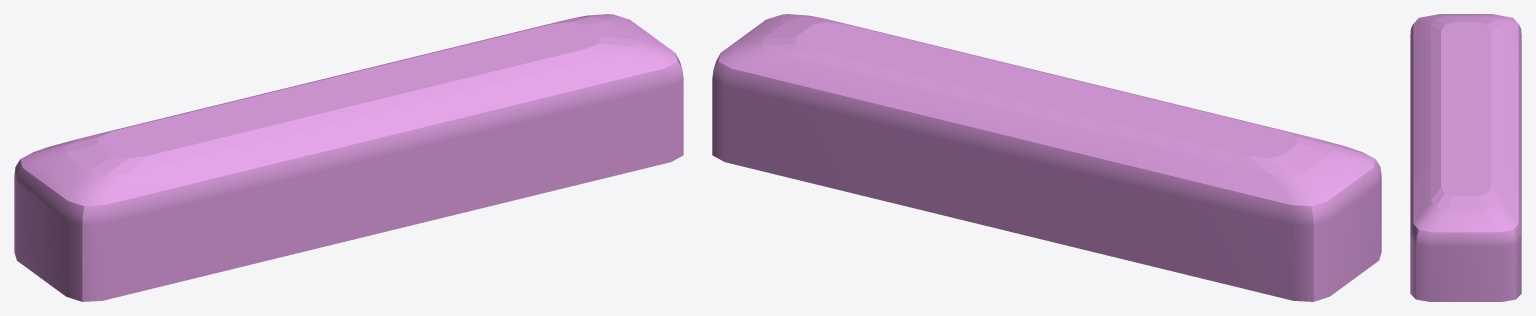
Rendered from Sand_blocker_1.fbx.
The picture shows the model from 3 angles, left to right: view 1: azimuth 30°, elevation 25°; view 2: azimuth 150°, elevation 25°; view 3: azimuth 270°, elevation 25°; orthographic projection. The views are drawn at different scales.
Parts seen in each view (by area): view 1: blocker_geo; view 2: blocker_geo; view 3: blocker_geo.
Boxes of the visible parts, bbox=[...] form: blocker_geo: bbox=[14, 14, 683, 301]; blocker_geo: bbox=[712, 14, 1381, 301]; blocker_geo: bbox=[1410, 14, 1521, 301].
Bounding box in the file's own units: 403 × 71.03 × 86.13.
